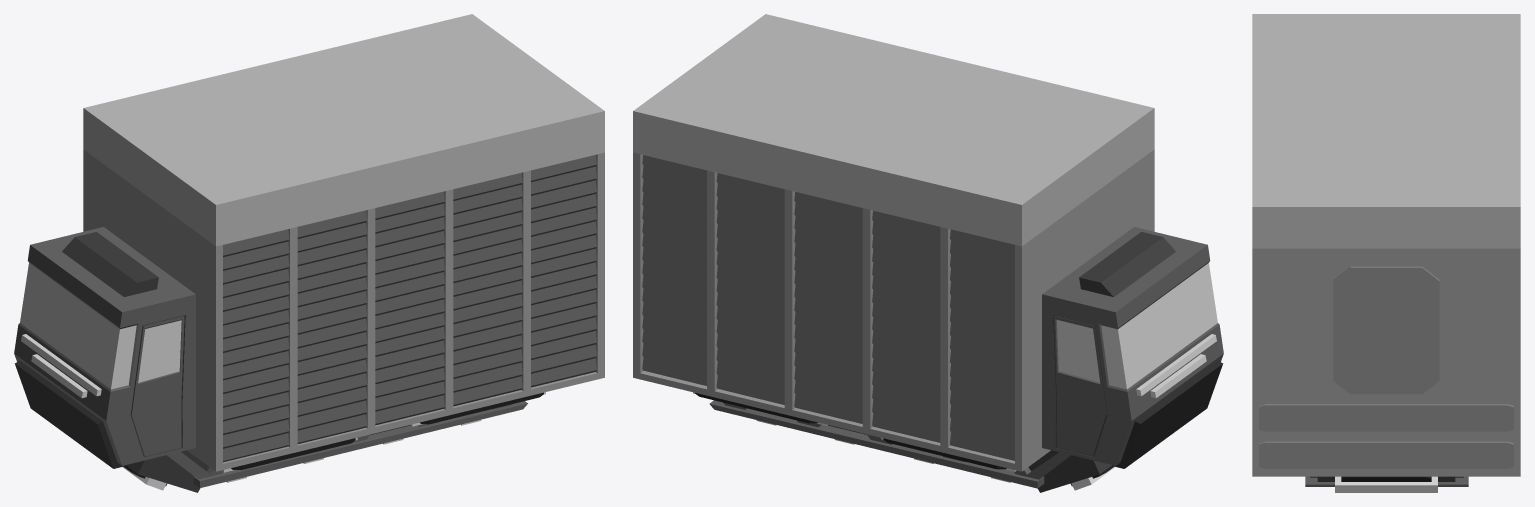
The model's file is car_C.FBX.
The picture shows the model from 3 angles, left to right: view 1: azimuth 30°, elevation 25°; view 2: azimuth 150°, elevation 25°; view 3: azimuth 270°, elevation 25°; orthographic projection.
Parts seen in each view (by area): view 1: car_C, car_C_glass, car_C_glow; view 2: car_C, car_C_glass, car_C_glow; view 3: car_C, car_C_glow.
Boxes of the visible parts, x1,y1,x2,y2 form: car_C: (14, 14, 604, 492); car_C_glass: (20, 263, 181, 389); car_C_glow: (21, 334, 545, 490); car_C: (633, 14, 1223, 492); car_C_glass: (1057, 263, 1217, 389); car_C_glow: (693, 334, 1216, 490); car_C: (1252, 14, 1520, 486); car_C_glow: (1335, 476, 1437, 492).
Bounding box in the file's own units: 358 × 226 × 170.
